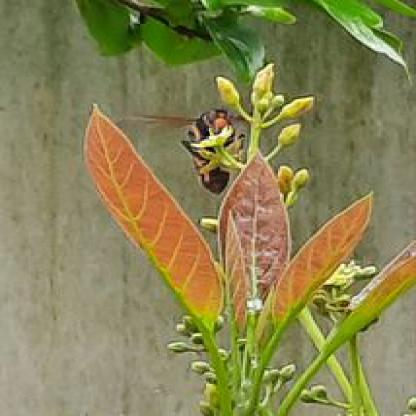Asian Hornet: (169, 99, 239, 197)
